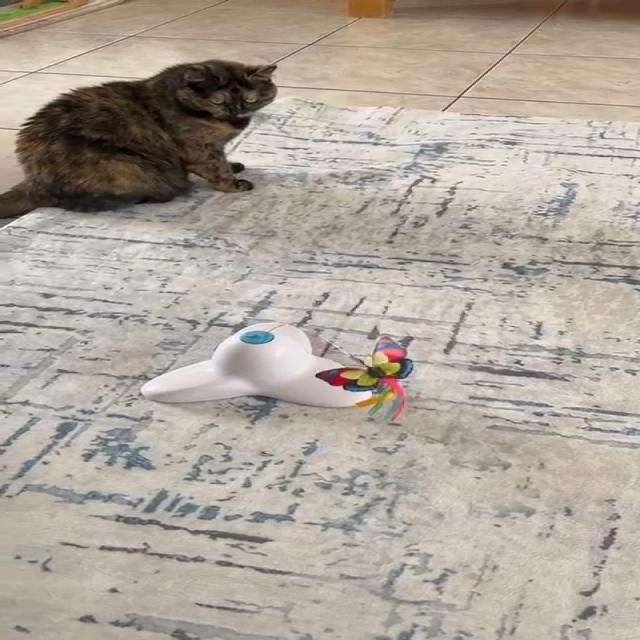authorized: (0, 58, 277, 219)
